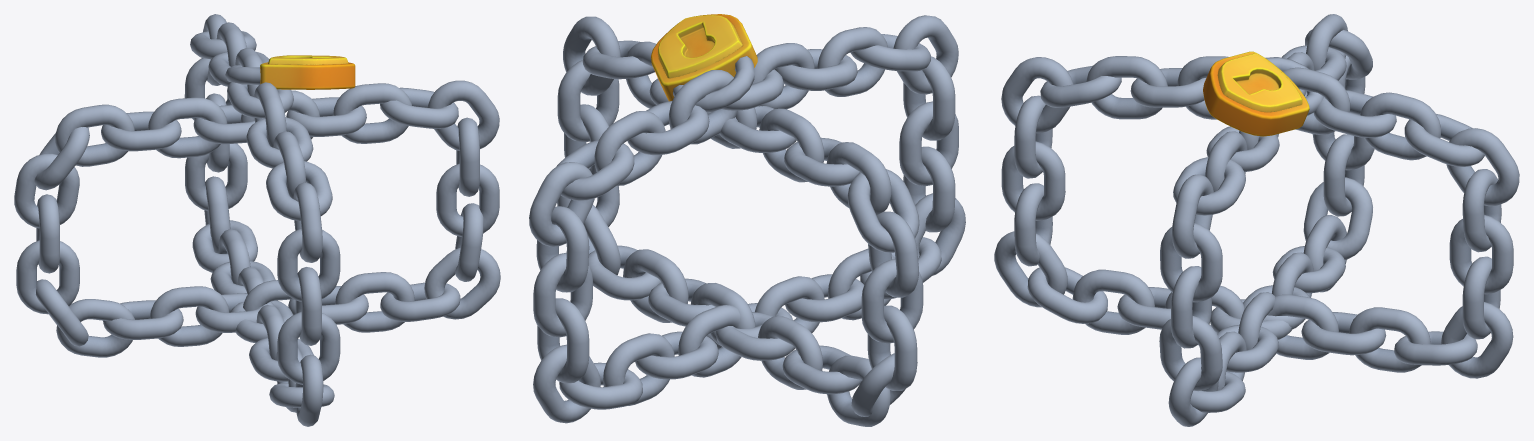
Rendered from Chain_Block_04.fbx.
The picture shows the model from 3 angles, left to right: view 1: azimuth 30°, elevation 25°; view 2: azimuth 150°, elevation 25°; view 3: azimuth 270°, elevation 25°; orthographic projection. The views are drawn at different scales.
Visible parts, largest first — view 1: Chain; view 2: Chain; view 3: Chain.
Boxes of the visible parts, x1,y1,x2,y2 form: Chain: (14, 14, 500, 426); Chain: (529, 14, 965, 426); Chain: (994, 14, 1519, 426).
Size of the model in its own units: 2.45 by 1.71 by 2.63.
Materials: 1 (1 with a texture image).
